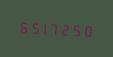five: (28, 18, 38, 36), (72, 20, 82, 38)
one: (39, 19, 49, 36)
seven: (50, 19, 60, 37)
six: (17, 17, 27, 35)
two: (61, 20, 71, 37)
zero: (83, 21, 93, 38)
